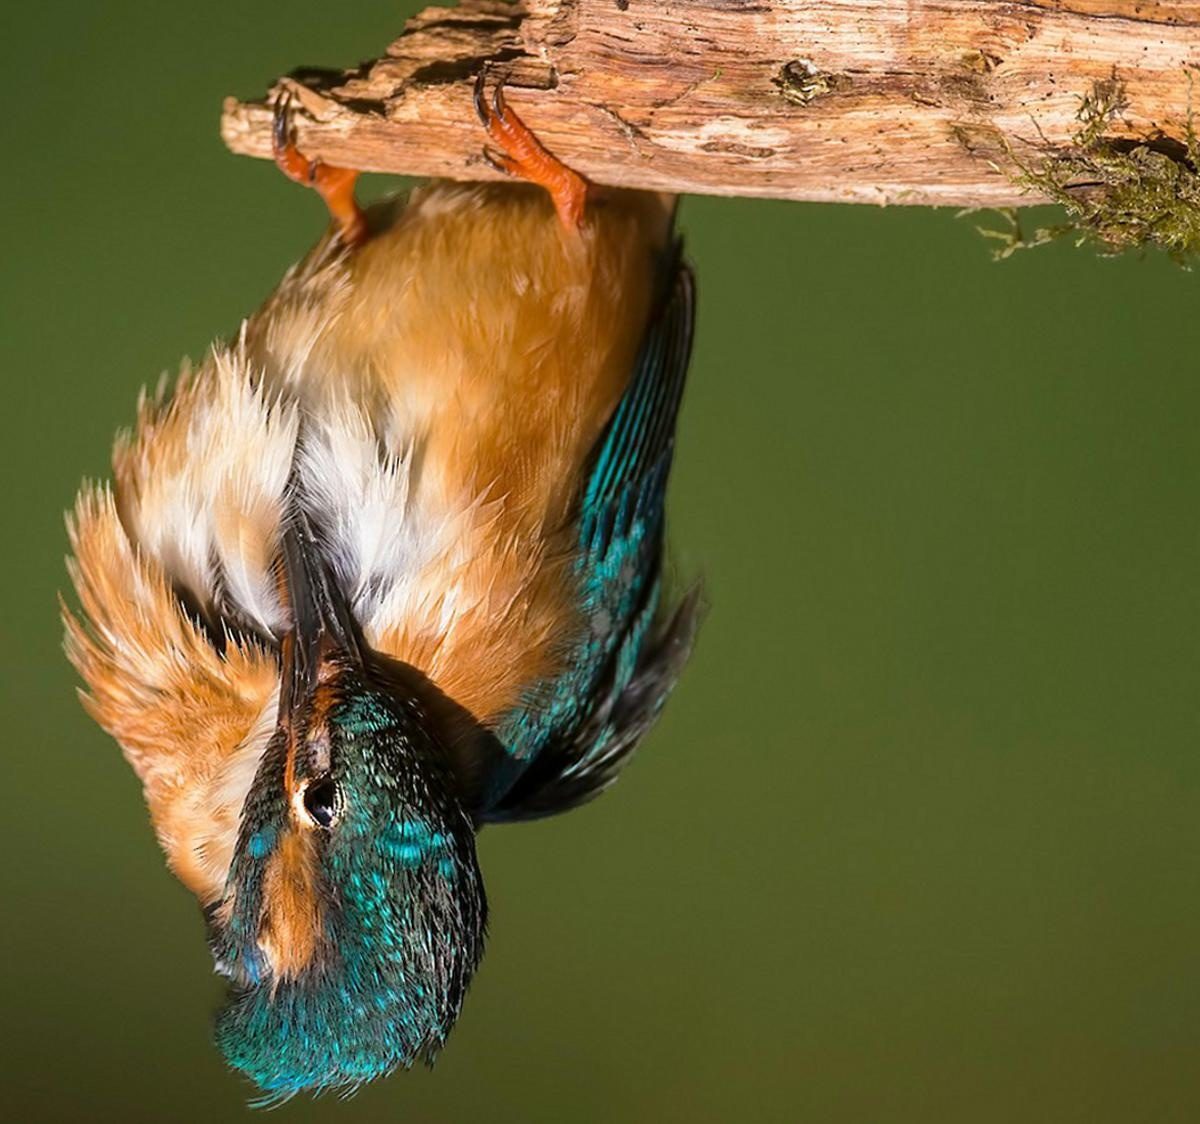kingfisher: (69, 62, 691, 1095)
